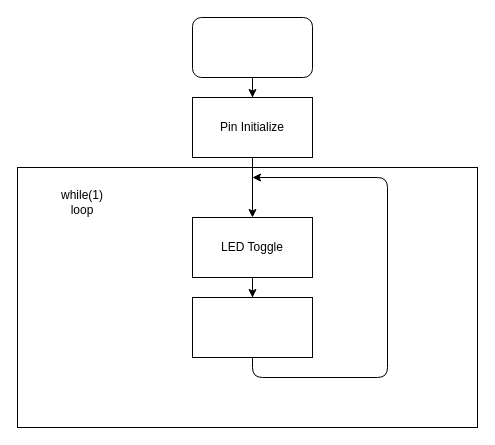
This 495x445 diagram has some shape labels left out. The shapes that lost their labels are listed below. From the top down, each one's centre as x and y in pixels, then its label:
At (252,47): "Start".
At (252,327): "Wait 1 second".
